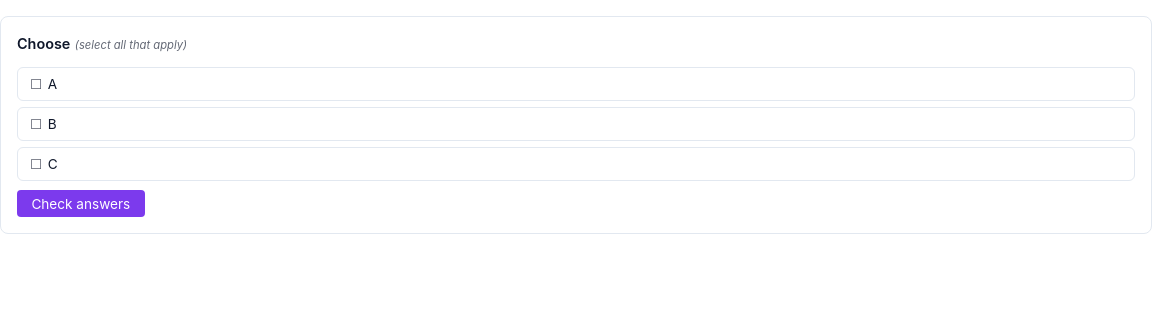
Test case: beginner learning controls › exposes multi-selection state and supports retrying
Click the button "☐B": point(36, 124) top-left (17, 107), bottom-right (1135, 141)
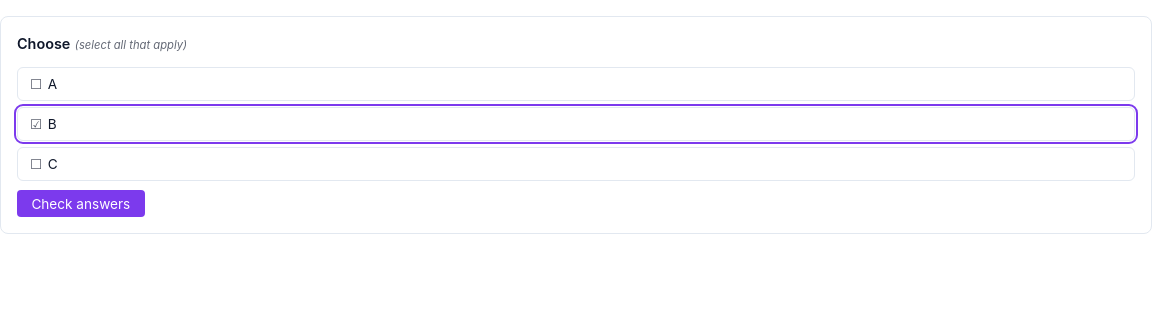
Click the button "Check answers": point(81, 204) top-left (17, 190), bottom-right (145, 217)
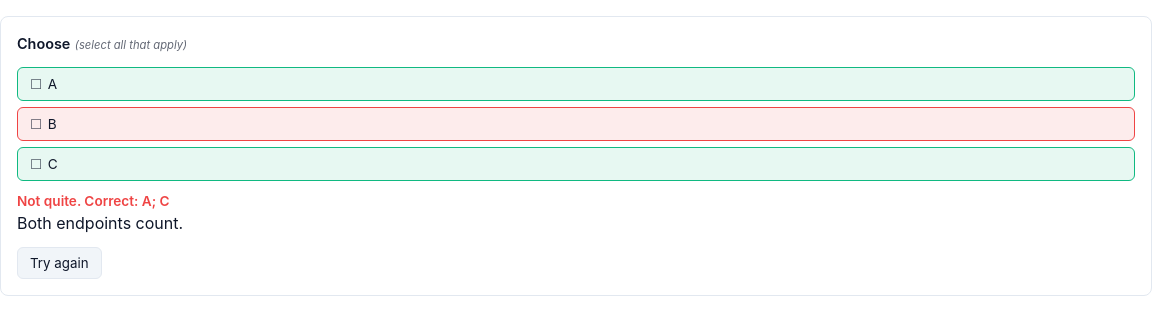
Now the message shows "Both endpoints count.", box top-left (17, 213), bottom-right (183, 233)
Click the button "Try again": point(59, 263) top-left (17, 247), bottom-right (102, 279)
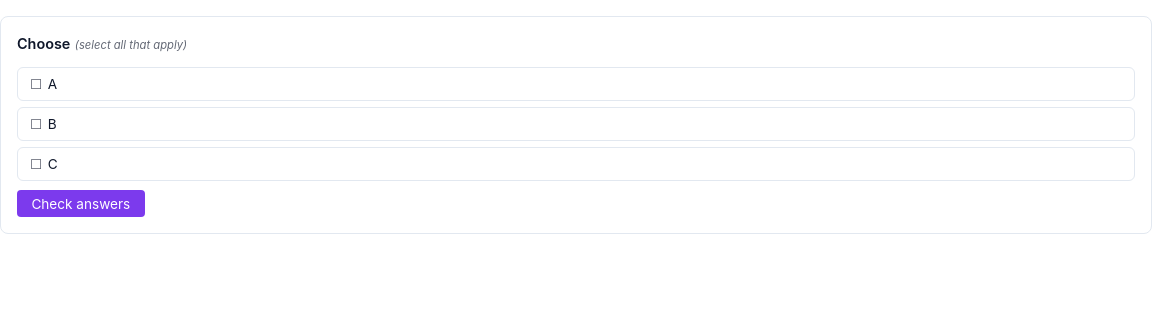
Click the button "☐A": point(36, 84) top-left (17, 67), bottom-right (1135, 101)
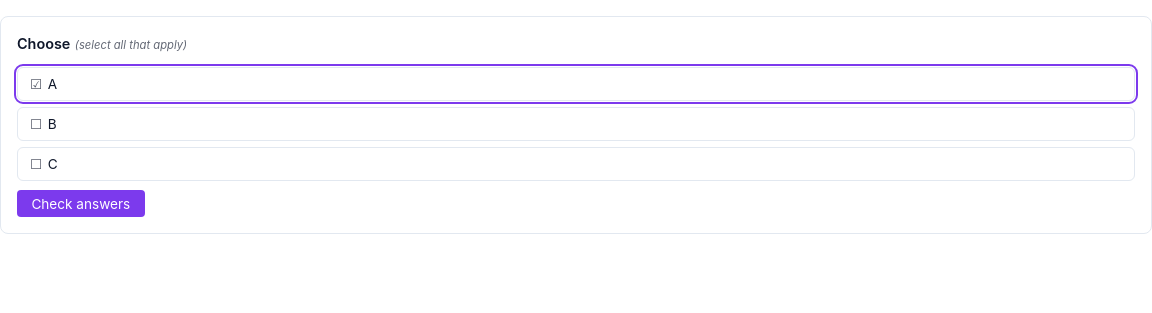
Click the button "☐C": point(36, 164) top-left (17, 147), bottom-right (1135, 181)
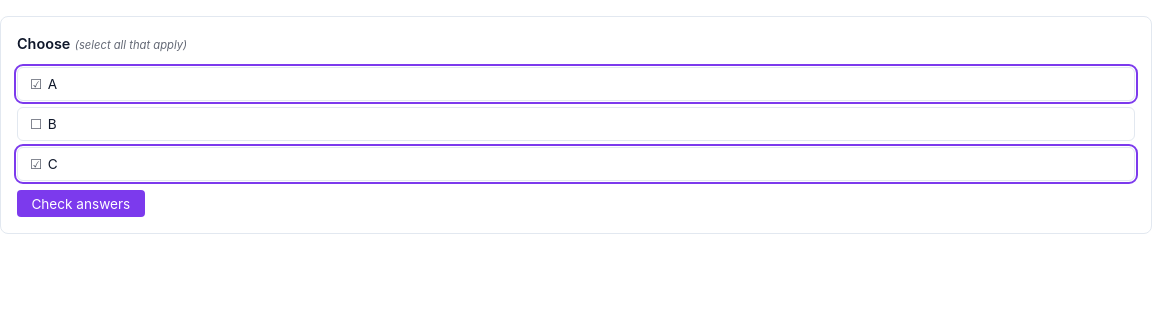
Click the button "Check answers": point(81, 204) top-left (17, 190), bottom-right (145, 217)
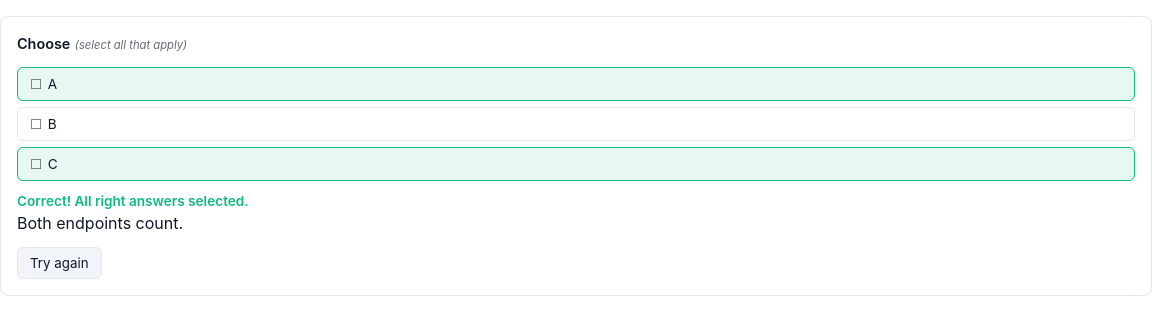
Now the message shows "Correct!", box top-left (17, 193), bottom-right (249, 209)
